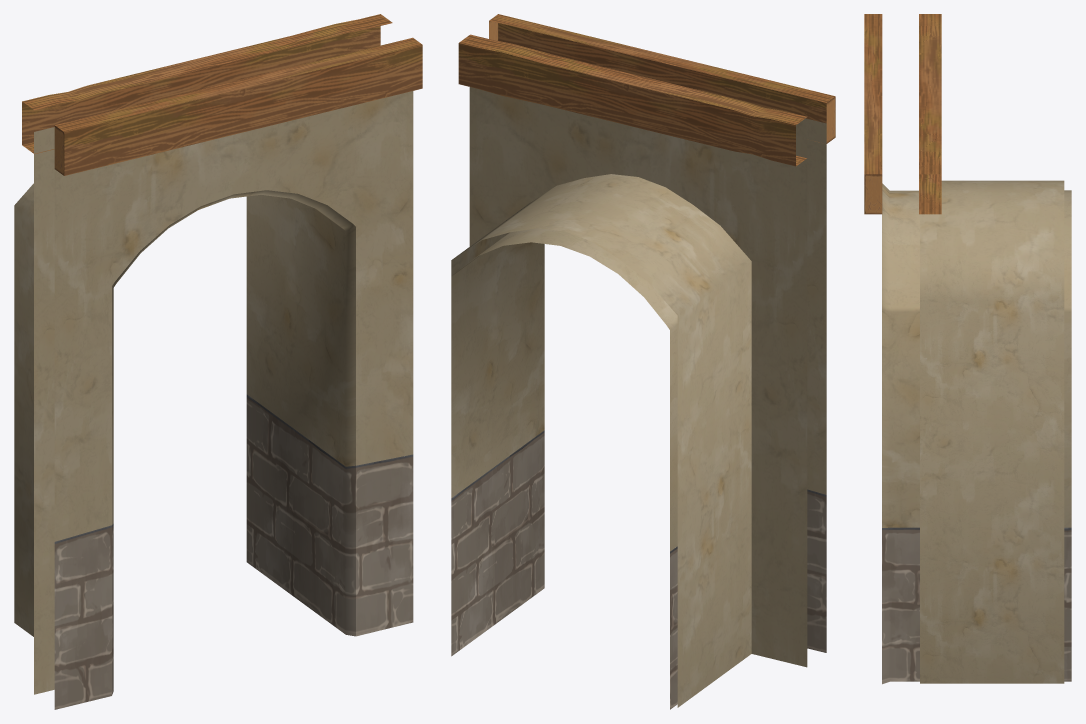
File: Wall_Plaster_Door_RoundInset.gltf
The picture shows the model from 3 angles, left to right: view 1: azimuth 30°, elevation 25°; view 2: azimuth 150°, elevation 25°; view 3: azimuth 270°, elevation 25°; orthographic projection. The views are drawn at different scales.
Parts seen in each view (by area): view 1: Wall_Plaster_Door_RoundInset; view 2: Wall_Plaster_Door_RoundInset; view 3: Wall_Plaster_Door_RoundInset.
Boxes of the visible parts, box(x1,y1,x2,y2) form: Wall_Plaster_Door_RoundInset: box(14, 14, 422, 709); Wall_Plaster_Door_RoundInset: box(451, 14, 835, 709); Wall_Plaster_Door_RoundInset: box(864, 14, 1071, 684).
Size of the model in its own units: 2 by 3.12 by 1.09.
3 materials, 3 textured.
